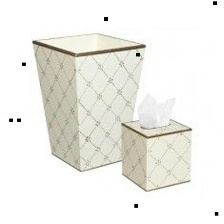plastic_box: (26, 25, 151, 176), (115, 112, 196, 194)
tissue: (130, 86, 179, 133)
